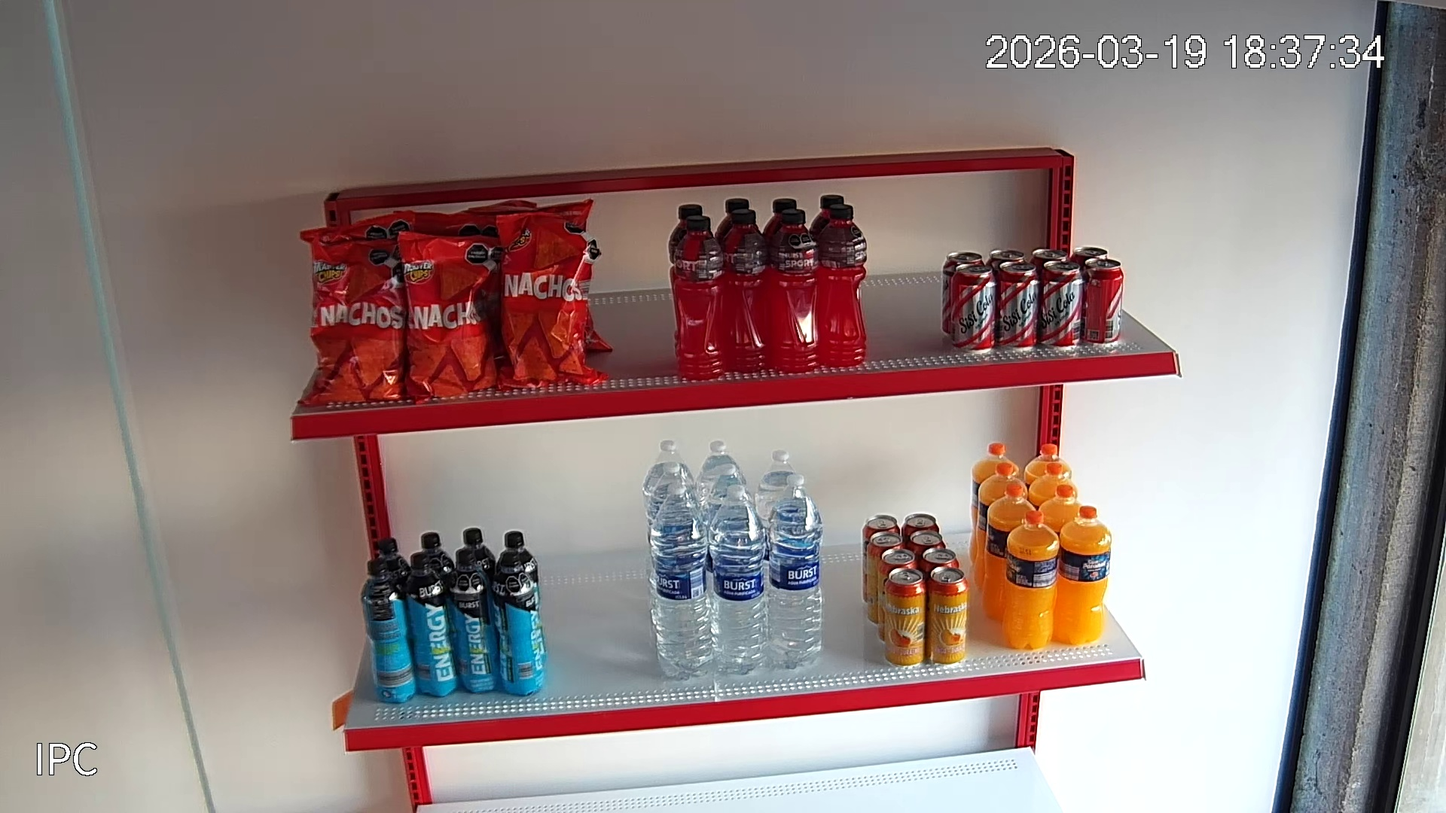agua_burst: (709, 484, 767, 672), (755, 449, 796, 601), (695, 441, 746, 508)
burst_energetica_roja: (673, 215, 725, 379), (816, 204, 867, 365), (763, 198, 797, 242)
burst_energy: (447, 548, 499, 692), (495, 531, 547, 663), (378, 538, 409, 595)
nachos_naturasol: (297, 237, 413, 403), (397, 232, 503, 401), (413, 210, 520, 235)
nebraska_mango: (885, 567, 924, 665), (867, 532, 904, 623), (921, 548, 960, 578)
sisi_cola: (950, 263, 996, 353), (1081, 258, 1123, 343), (986, 248, 1025, 287)
sun_paradise_naranja: (1052, 505, 1111, 641), (981, 484, 1036, 622), (1004, 512, 1058, 648), (1039, 486, 1081, 533)
